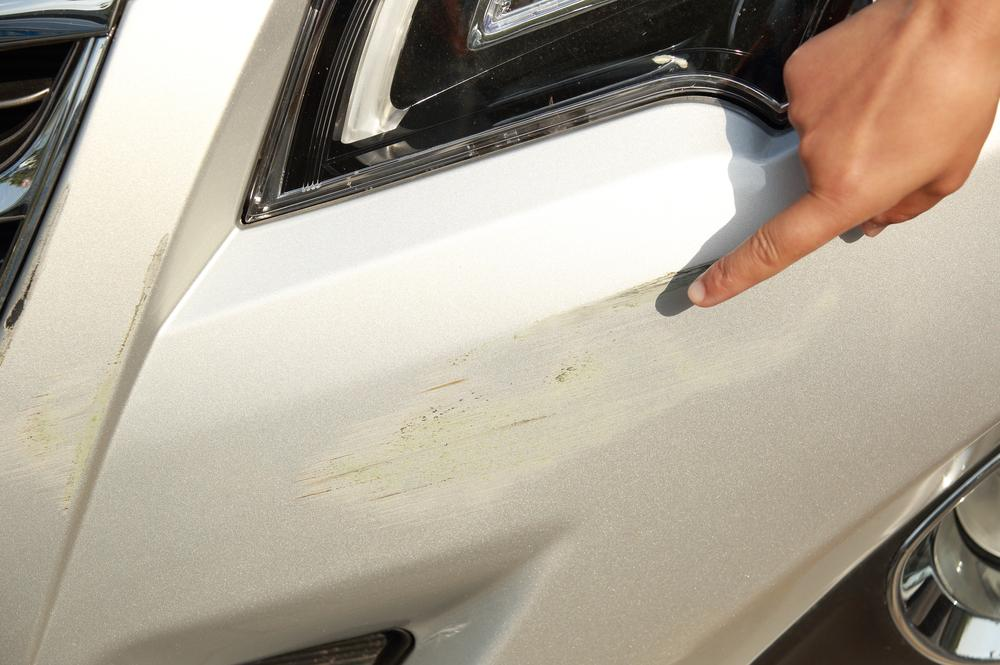scratch: (282, 261, 859, 519), (0, 180, 177, 521)
